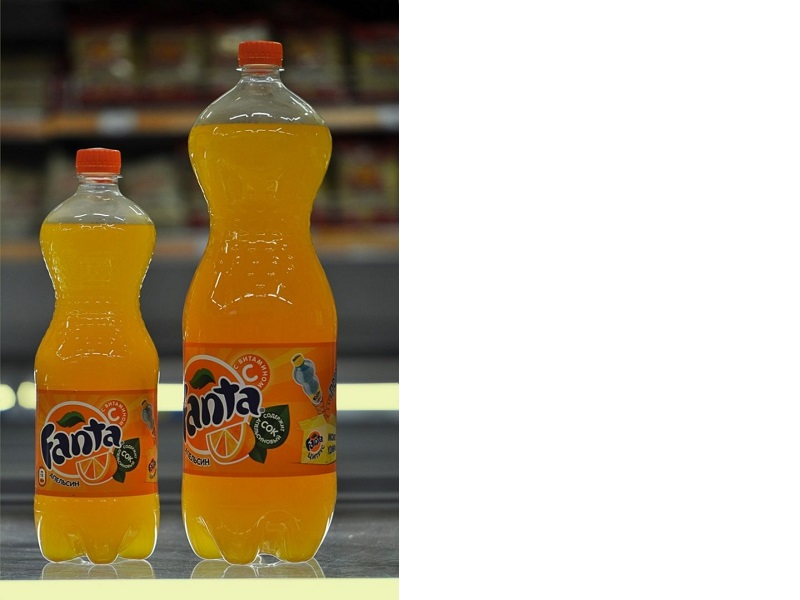lemonade: (162, 24, 369, 566), (23, 137, 170, 571)
